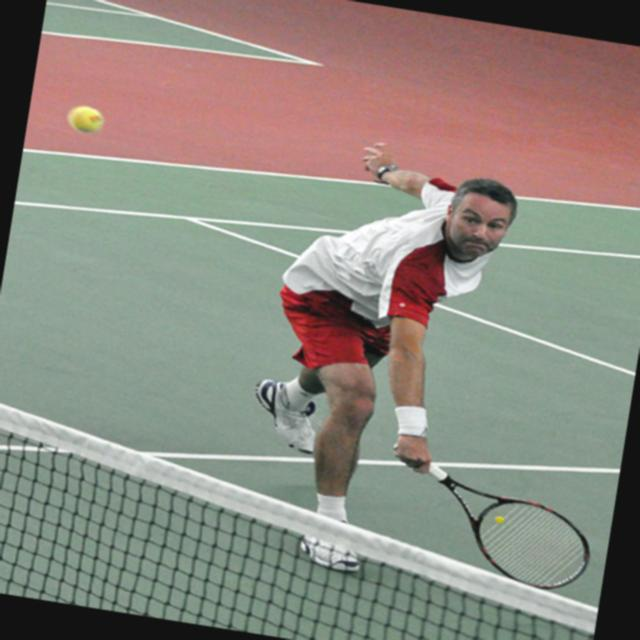Tennis ball: (66, 103, 104, 133)
